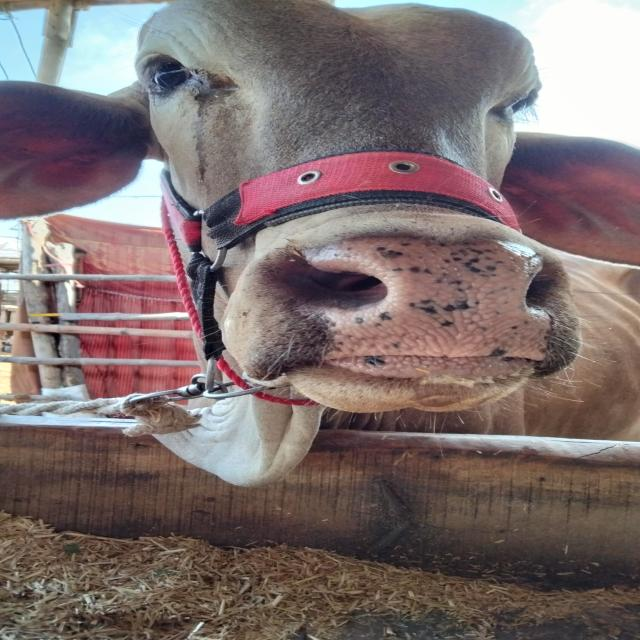muzzles: (273, 222, 581, 378)
